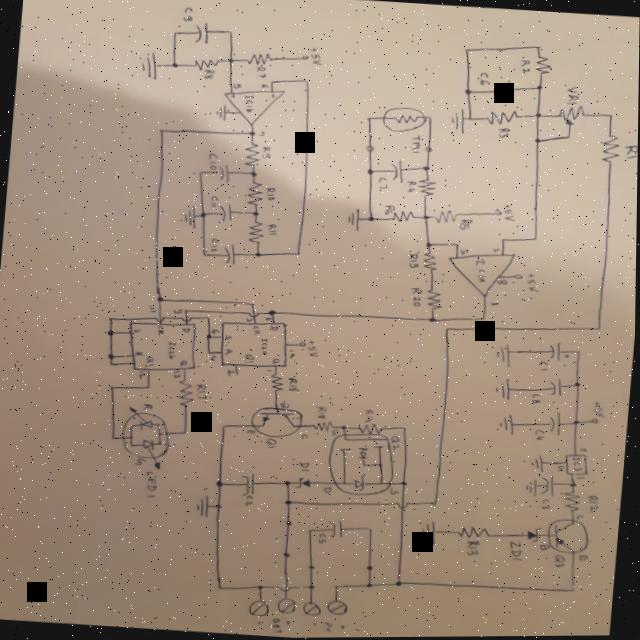capacitor: (546, 340, 572, 362), (546, 411, 564, 436), (191, 21, 210, 44), (240, 473, 257, 498), (495, 80, 515, 101), (540, 474, 557, 497), (327, 519, 346, 539), (389, 160, 405, 183), (547, 378, 566, 397), (222, 243, 238, 265), (216, 163, 231, 183), (217, 204, 232, 223)
crossover: (395, 501, 410, 510), (279, 584, 293, 593), (246, 310, 260, 318), (181, 315, 192, 322), (155, 316, 163, 322)
diode: (120, 405, 173, 470), (525, 526, 544, 543), (295, 476, 313, 489)
ground: (139, 51, 159, 81), (420, 518, 440, 546), (492, 377, 514, 401), (493, 342, 513, 368), (181, 203, 200, 230), (525, 451, 547, 473), (498, 413, 516, 436), (194, 494, 211, 518), (345, 206, 361, 231), (450, 108, 465, 133), (213, 102, 226, 121), (524, 479, 537, 495)
junction: (215, 480, 225, 488), (366, 168, 375, 176), (395, 579, 404, 587), (254, 251, 263, 259), (424, 241, 433, 249), (256, 583, 266, 590), (571, 420, 581, 427), (367, 215, 375, 223), (156, 296, 165, 303), (106, 329, 115, 336), (156, 128, 165, 135), (367, 582, 375, 589), (285, 499, 293, 506), (226, 57, 234, 64), (574, 382, 582, 389), (171, 62, 179, 69), (535, 84, 543, 91), (309, 583, 317, 590), (533, 44, 541, 51), (499, 237, 507, 244), (570, 587, 578, 594), (284, 479, 292, 486), (107, 353, 115, 360), (284, 552, 292, 559), (247, 131, 255, 137), (365, 116, 373, 122), (480, 316, 488, 322), (564, 134, 572, 140), (267, 309, 275, 315), (252, 211, 260, 217), (570, 483, 579, 488), (428, 317, 435, 323), (216, 504, 223, 510), (285, 520, 292, 526), (367, 565, 374, 571), (220, 424, 228, 429), (308, 565, 316, 570), (200, 211, 206, 217), (426, 115, 432, 121), (432, 501, 439, 506), (307, 528, 314, 533), (596, 327, 603, 332), (171, 30, 178, 35), (218, 585, 225, 590), (368, 526, 375, 531), (422, 215, 429, 220), (464, 89, 470, 94), (535, 138, 541, 143), (401, 481, 407, 486), (533, 236, 539, 241), (250, 302, 256, 307), (423, 166, 429, 171), (109, 385, 116, 389), (401, 426, 408, 430), (145, 385, 152, 389), (335, 585, 341, 589), (534, 114, 540, 118), (464, 48, 470, 52), (607, 114, 613, 118), (198, 171, 204, 175), (227, 30, 233, 34), (182, 430, 188, 434), (201, 252, 207, 256), (296, 251, 302, 255), (575, 350, 581, 354), (111, 436, 117, 440), (303, 79, 309, 83), (466, 117, 472, 121), (454, 243, 460, 247), (444, 326, 450, 330), (342, 425, 348, 429), (206, 335, 212, 339), (183, 309, 189, 313), (250, 172, 256, 176), (109, 316, 113, 320), (109, 363, 114, 366), (208, 351, 212, 353), (271, 81, 275, 83)
resistor: (382, 107, 426, 134), (556, 104, 586, 127), (483, 109, 518, 125), (245, 181, 265, 207), (456, 525, 493, 539), (243, 141, 262, 168), (177, 379, 196, 406), (247, 219, 266, 245), (601, 136, 619, 163), (424, 288, 444, 312), (245, 51, 273, 67), (191, 57, 220, 71), (562, 491, 581, 512), (309, 419, 336, 433), (421, 251, 439, 272), (417, 178, 436, 197), (389, 210, 414, 223), (534, 56, 551, 75), (433, 210, 456, 224), (270, 373, 285, 393), (358, 423, 383, 435)
terminal: (249, 598, 271, 618), (327, 599, 350, 617), (277, 598, 298, 615), (303, 600, 323, 617), (512, 274, 522, 281), (591, 418, 599, 426), (493, 210, 502, 217), (298, 340, 307, 347), (424, 146, 432, 153), (365, 145, 373, 152), (235, 373, 241, 377), (301, 56, 307, 60)
text: (508, 540, 527, 564), (144, 470, 158, 497), (473, 260, 489, 283), (564, 85, 580, 106), (592, 400, 608, 420), (408, 287, 423, 308), (525, 272, 540, 293), (465, 540, 482, 557), (586, 495, 601, 514), (306, 339, 321, 358), (409, 134, 422, 155), (166, 339, 178, 361), (194, 383, 209, 400), (309, 47, 322, 66), (553, 554, 568, 570), (407, 252, 421, 269), (502, 204, 515, 222), (571, 457, 585, 473), (272, 617, 285, 634), (624, 144, 638, 159), (477, 72, 491, 87), (315, 405, 329, 420), (244, 94, 255, 113), (207, 151, 219, 168), (529, 392, 543, 406), (287, 377, 299, 393), (260, 336, 269, 357), (209, 236, 220, 253), (264, 187, 276, 202), (364, 408, 376, 423), (255, 66, 268, 79), (143, 355, 156, 368), (534, 428, 546, 442), (261, 145, 272, 160), (182, 6, 193, 21), (540, 498, 552, 511), (537, 361, 550, 373), (323, 621, 335, 634), (460, 219, 474, 230), (391, 435, 401, 450), (497, 128, 510, 139), (265, 438, 278, 449), (299, 461, 312, 472), (244, 495, 255, 508), (521, 59, 530, 74), (406, 181, 417, 193), (244, 353, 256, 364), (317, 532, 328, 544), (376, 178, 387, 189), (252, 325, 263, 336), (266, 223, 276, 235), (203, 69, 215, 79), (156, 324, 166, 336), (539, 543, 552, 552), (135, 457, 148, 466), (579, 554, 591, 563), (457, 247, 469, 256), (555, 464, 567, 473), (388, 486, 400, 495), (210, 195, 219, 207), (385, 204, 394, 215), (225, 368, 236, 377), (137, 370, 146, 381), (287, 349, 296, 360), (178, 359, 189, 368), (495, 279, 509, 286), (173, 369, 182, 379), (172, 307, 183, 315), (143, 402, 154, 410), (133, 350, 145, 357), (148, 306, 158, 314), (271, 357, 281, 365), (323, 486, 332, 494), (246, 428, 256, 435), (490, 301, 500, 308), (280, 401, 290, 408), (299, 434, 309, 441), (133, 327, 143, 334), (246, 315, 255, 322), (576, 514, 585, 521), (330, 429, 339, 436), (270, 325, 279, 332), (225, 333, 234, 340), (182, 326, 191, 333), (578, 447, 590, 452), (210, 329, 220, 335), (233, 82, 241, 89), (259, 82, 267, 89), (339, 624, 347, 631), (211, 354, 219, 361), (225, 347, 233, 354), (575, 476, 585, 481), (492, 248, 500, 254), (258, 619, 264, 626), (265, 368, 273, 373), (264, 316, 272, 321), (228, 94, 236, 99), (312, 621, 318, 627), (286, 619, 292, 625), (259, 131, 265, 136), (270, 93, 276, 97)
transistor: (326, 430, 397, 499), (249, 404, 305, 441), (545, 518, 592, 557)
